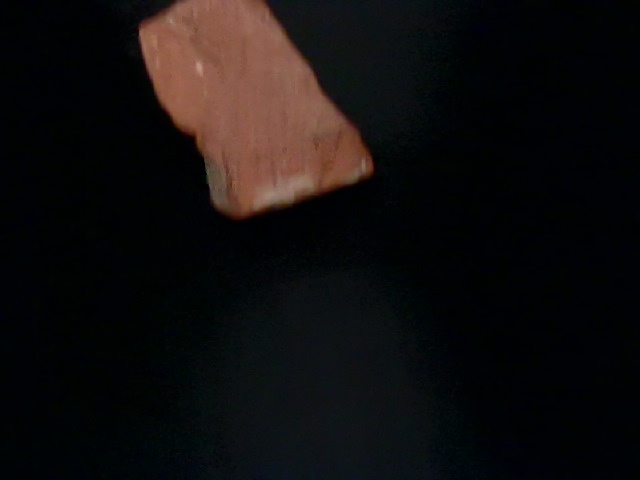KHSLJ: (123, 1, 615, 257)
